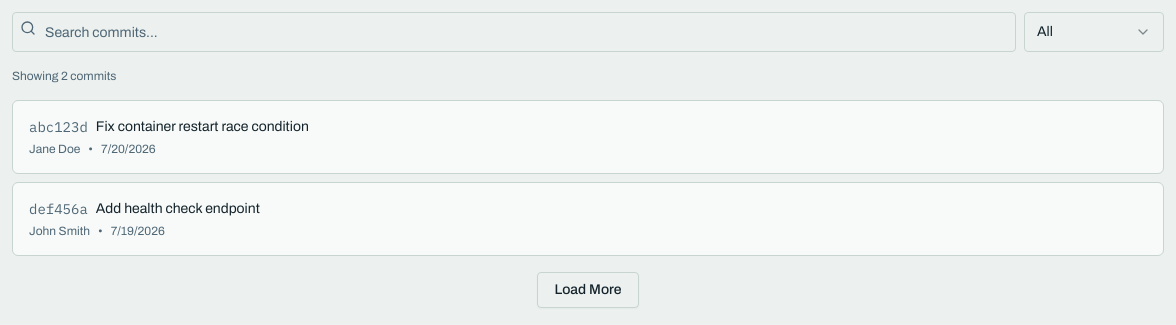
Test: GitHistory — a failed REFETCH is a refresh failure, not a load failure (agent-os-o5ud) › says it is loading, not that there are zero commits, while a later page is in flight
Expected: the text "Fix container restart race condition" is shown, x1=96 y1=117 x2=309 y2=137
Click the button "Load More".
click(588, 290)  # box x1=538 y1=272 x2=638 y2=308
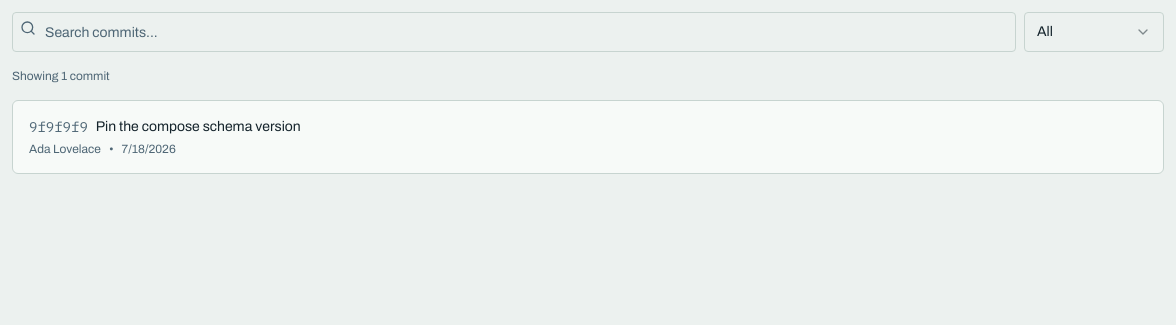
Expected: the text "Loading git history..." is shown, x1=12 y1=12 x2=1164 y2=174
Now the text "Pin the compose schema version" is shown, box x1=96 y1=117 x2=301 y2=137
